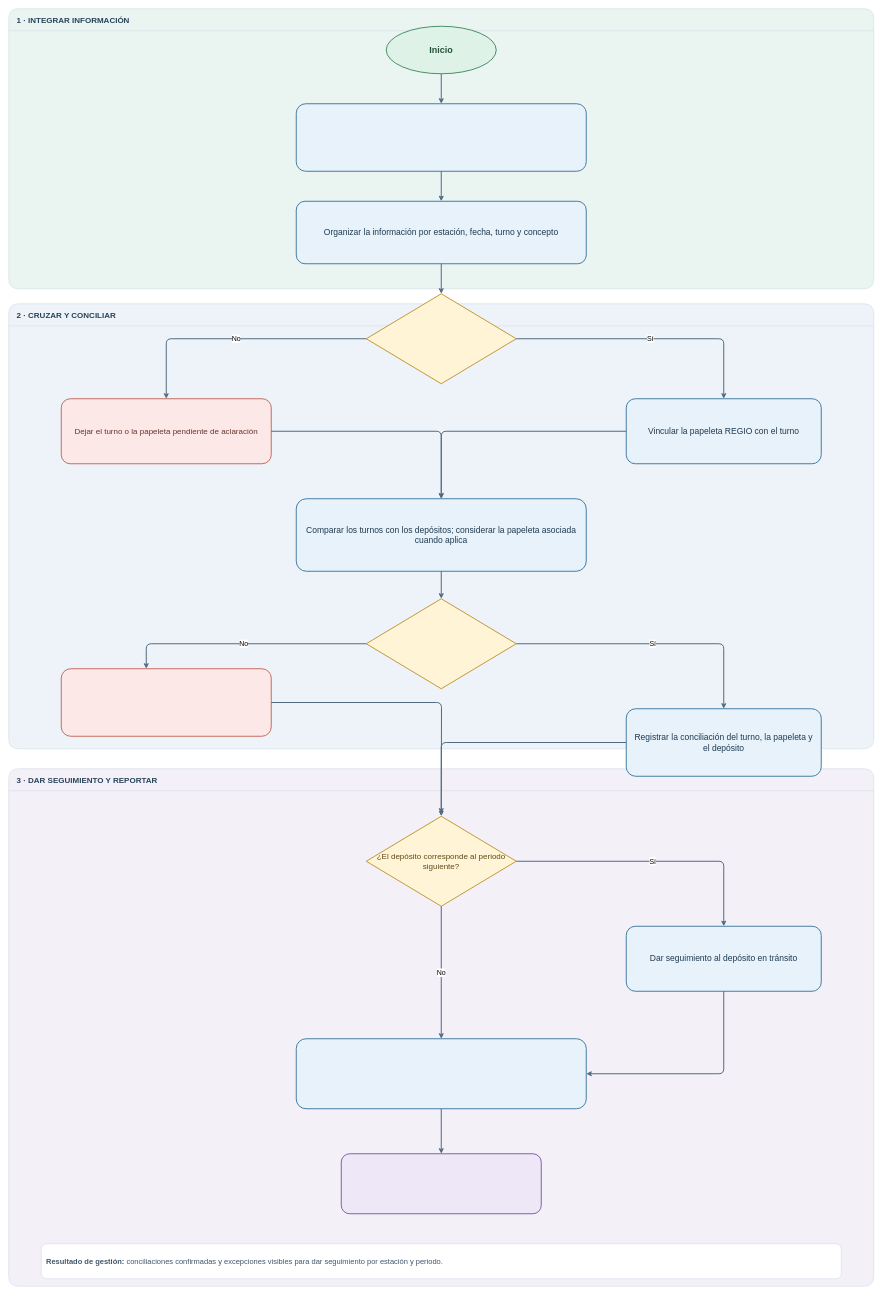
Image size: 883x1295. Some labels were removed from this diagram. Each missing label, with the centre of its shape:
Consolidar conciliados, faltantes, diferencias y pendientes: (441,1073)
Identificar faltante o diferencia para revisión: (166,702)
Reporte general: (441,1183)
Reunir turnos de operación, papeletas REGIO y depósitos bancarios: (441,137)
¿La papeleta REGIO corresponde a un turno?: (441,338)
¿Se encuentra un depósito que coincide?: (441,643)
